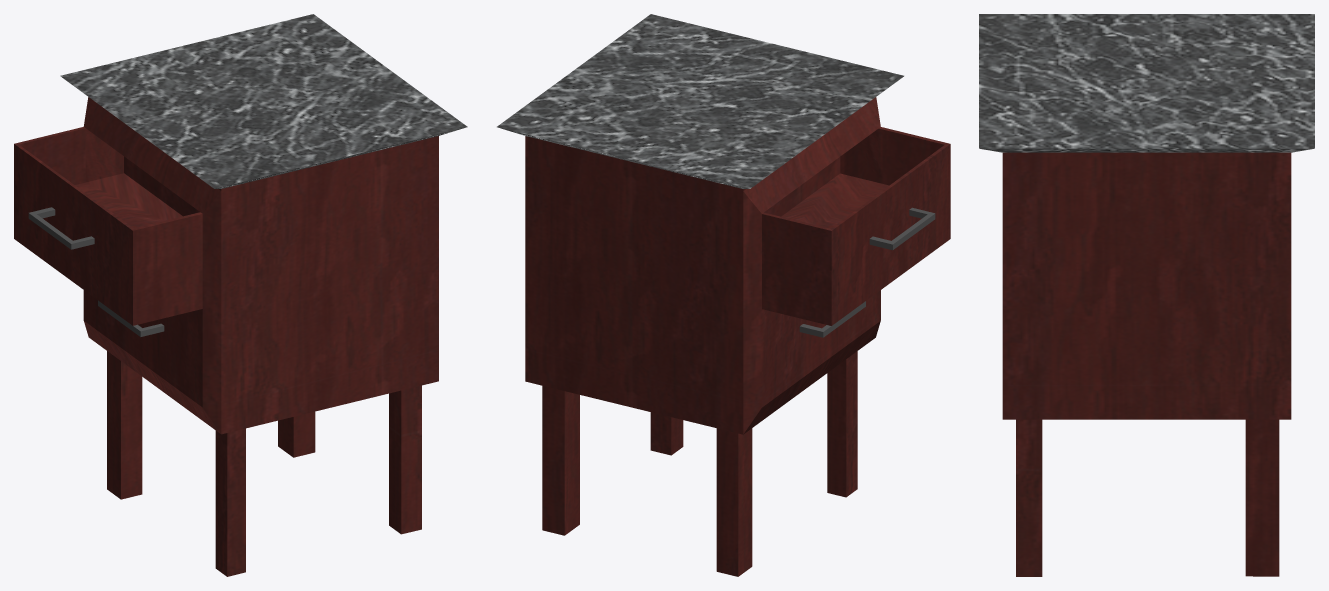
The model's file is Bedside Table.fbx.
3 views of the same model, side by side, from view 1: azimuth 30°, elevation 25°; view 2: azimuth 150°, elevation 25°; view 3: azimuth 270°, elevation 25° (orthographic). The views are drawn at different scales.
Parts seen in each view (by area): view 1: Cube, Cube.001; view 2: Cube, Cube.001; view 3: Cube.
Boxes of the visible parts, x1,y1,x2,y2 form: Cube: [14, 14, 467, 576]; Cube.001: [28, 207, 164, 336]; Cube: [497, 14, 950, 576]; Cube.001: [799, 207, 935, 337]; Cube: [979, 14, 1314, 576].
Bounding box in the file's own units: 487 × 557 × 383.
